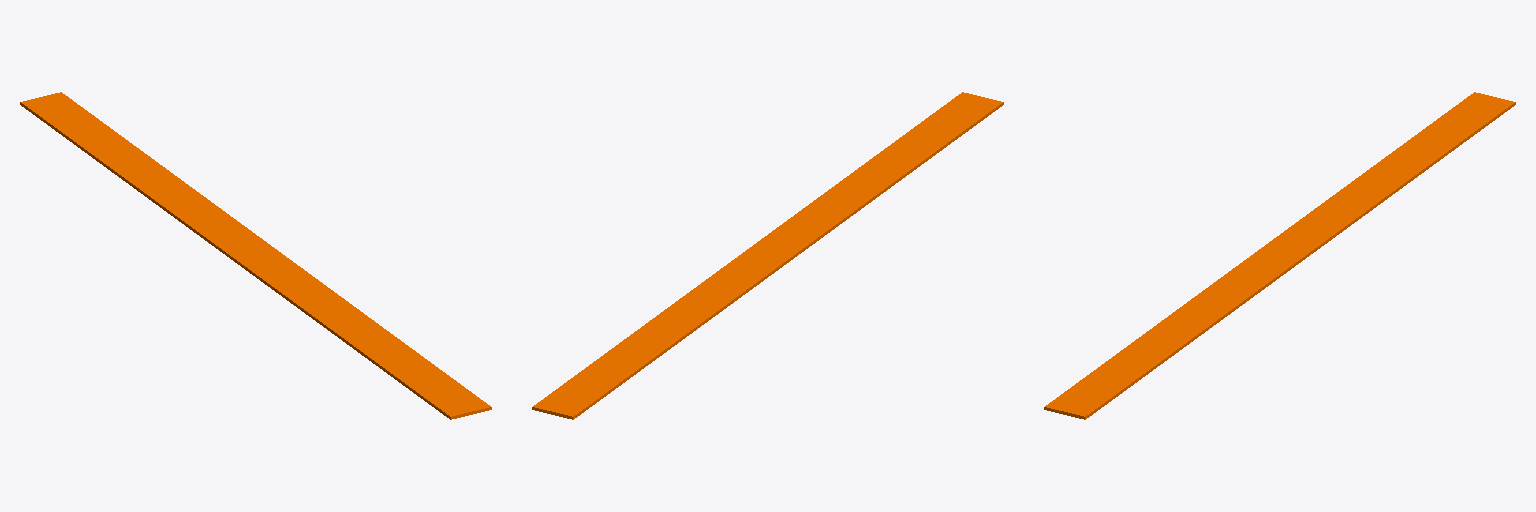
The robot description file, URDF, robot "ypaddle2D":
<robot name="ypaddle2D">
    
  <link name="base_link">
    <inertial>
      <origin rpy="0 0 0" xyz="0 0 0"/>
       <mass value="0"/>
       <inertia ixx="0" ixy="0" ixz="0" iyy="0" iyz="0" izz="0"/>
    </inertial>
  </link>

  <link name="x_link">
    <inertial>
      <origin rpy="0 0 0" xyz="0 0 0"/>
       <mass value="0.0001"/>
       <inertia ixx="0.0001" ixy="0" ixz="0" iyy="0.0001" iyz="0" izz="0.0001"/>
    </inertial>
  </link>


  <link name="y_link">
    <inertial>
      <origin rpy="0 0 0" xyz="0 0 0"/>
       <mass value="0.0001"/>
       <inertia ixx="0.0001" ixy="0" ixz="0" iyy="0.0001" iyz="0" izz="0.0001"/>
    </inertial>
  </link>


  <link name="theta_link">
    <inertial>
      <origin rpy="0 0 0" xyz="0 0 0"/>
       <mass value="1.0"/>
       <inertia ixx="0.0001" ixy="0" ixz="0" iyy="0.0001" iyz="0" izz="0.0001"/>
    </inertial>

    <visual>
      <origin rpy="0 0 0" xyz="0 0 0"/>
      <geometry>
        <box size="2.75 50 0.2" />      
      </geometry>
      <material name="white">
        <color rgba="1 0.5 0 1"/>
      </material>
    </visual>
    
    <collision>
      <origin rpy="0 0 0" xyz="0 0 0"/>
      <geometry>
        <box size="2.75 50 0.2" />
      </geometry>
    </collision>
  </link>

  <joint name = "x_prismatic" type = "prismatic">
    <origin xyz = "0.0 0.0 0.0" rpy = "0 0 0"/> 
    <parent link = "base_link"/>
    <child link= "x_link"/>
    <axis xyz = "1 0 0"/>
    <limit effort="1.0" lower="-10000" upper="10000" velocity="10000" />
    <dynamics damping = "0.0" friction="0.0" />
  </joint>

  <joint name = "y_prismatic" type = "prismatic">
    <origin xyz = "0.0 0.0 0.0" rpy = "0 0 0"/> 
    <parent link = "x_link" />
    <child link= "y_link"/>
    <axis xyz = "0 1 0" />
    <limit effort="1.0" lower="-10000" upper="10000" velocity="10000" />
    <dynamics damping = "0.0" friction="0.0" />
  </joint>

   <joint name = "theta_revolute" type = "revolute">
    <origin xyz = "0.0 0.0 0.0" rpy = "0 0 0"/> 
    <parent link = "y_link" />
    <child link= "theta_link"/>
    <axis xyz = "0 0 1" />
    <limit effort="1.0" lower="-10000" upper="10000" velocity="10000" />
    <dynamics damping = "0.0" friction="0.0" />
  </joint>

    
</robot>

--- Facts derived from the render (not from the file) ---
The picture shows the robot from 3 angles, left to right: view 1: azimuth 30°, elevation 25°; view 2: azimuth 150°, elevation 25°; view 3: azimuth 330°, elevation 25°; orthographic projection.
Model ypaddle2D with 4 links and 3 joints (1 revolute, 2 prismatic), rooted at base_link, posed all joints at 0.
Visible links, largest first — view 1: theta_link; view 2: theta_link; view 3: theta_link.
Boxes of the visible links, x1=… form: theta_link: x1=20, y1=92, x2=491, y2=419; theta_link: x1=532, y1=92, x2=1003, y2=419; theta_link: x1=1044, y1=92, x2=1515, y2=419.
Bounding box of the posed robot: 2.75 × 50 × 0.2 m (x, y, z).
Geometry: primitives only (box / cylinder / sphere), no mesh files.